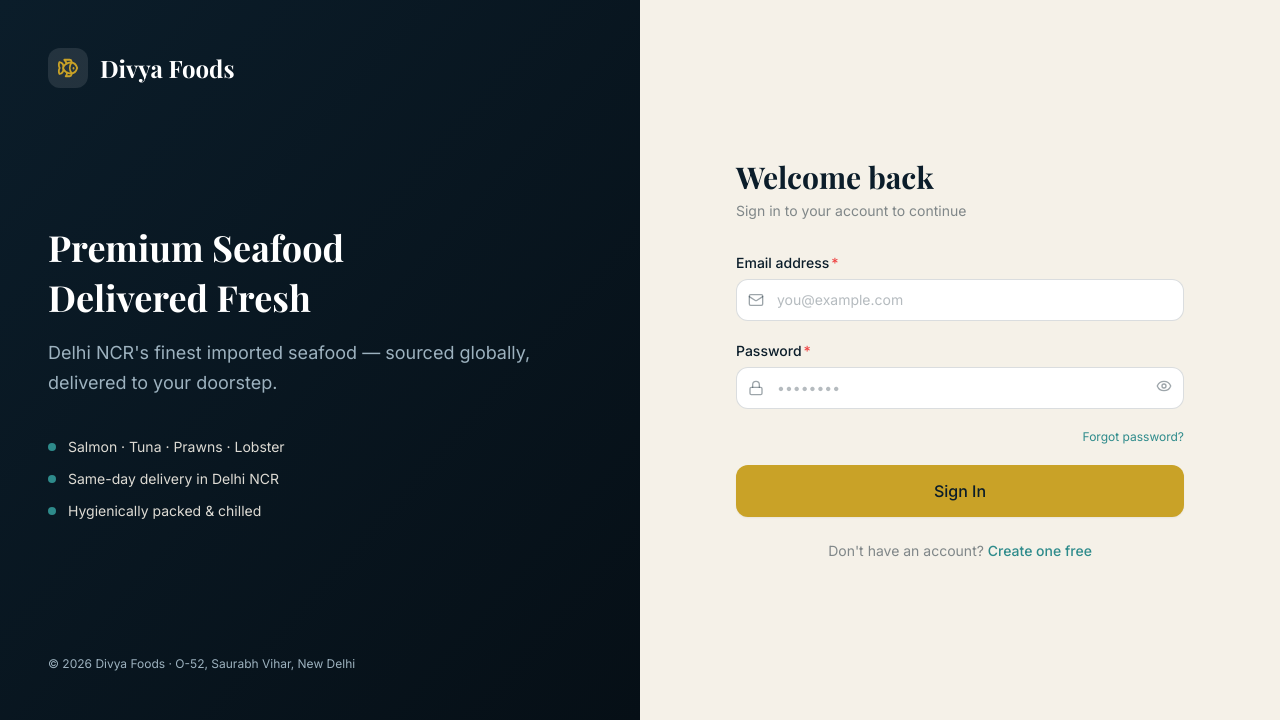
Test: LoginPage › rejects a too-short password
Step 1. Type "a@test.com" into the field labelled "Email address*" → point(960, 300), box x1=736 y1=279 x2=1184 y2=321
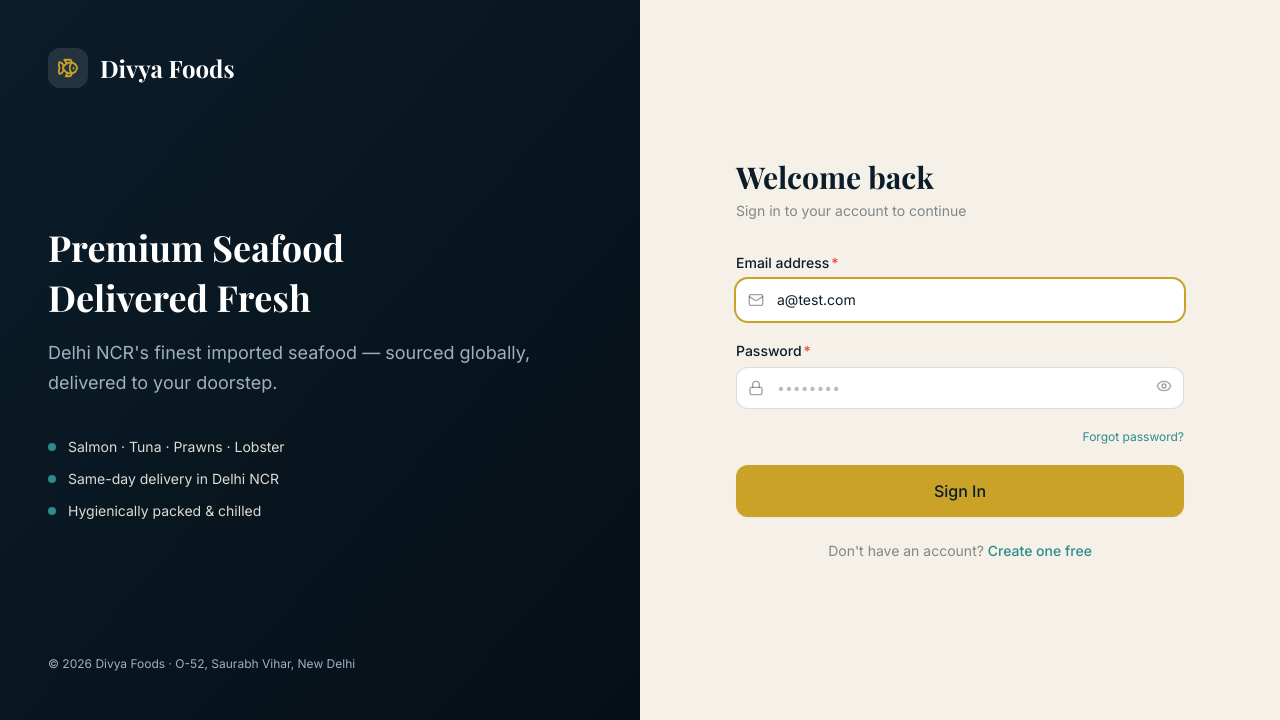
Step 2. Type "123" into the password field labelled "Password*" → point(960, 388), box x1=736 y1=367 x2=1184 y2=409
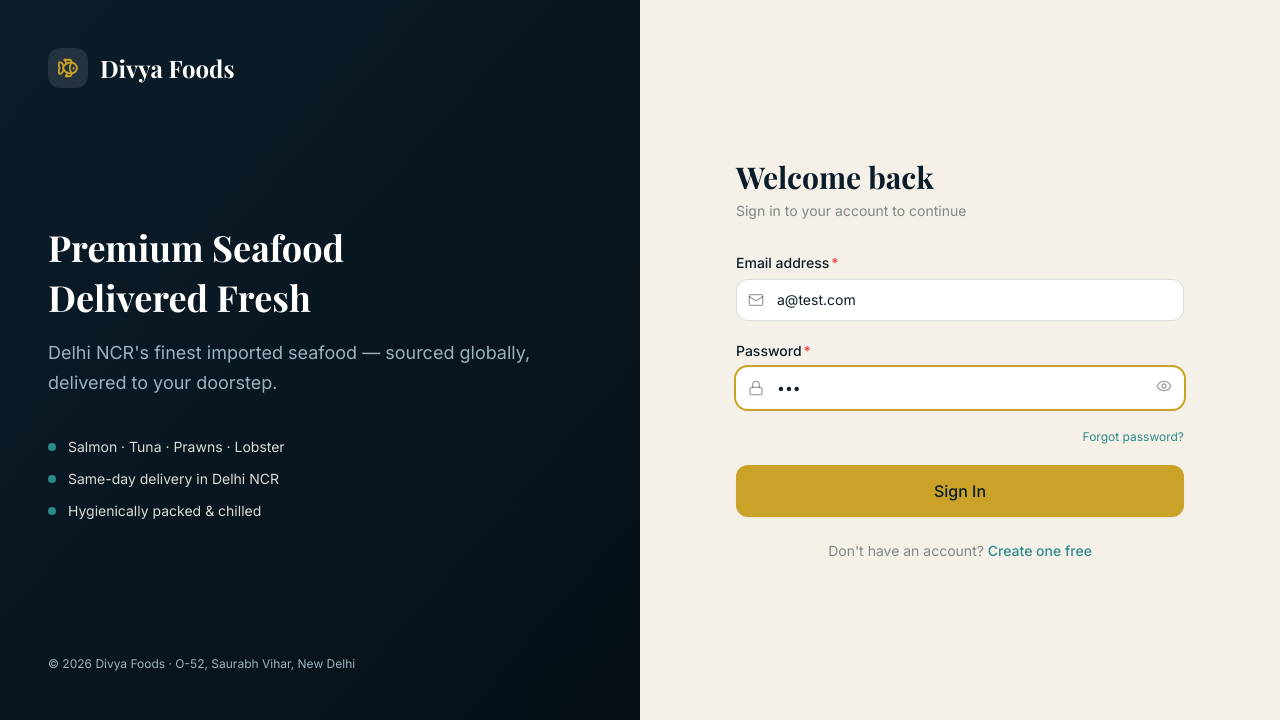
Step 3. Click the button "Sign In" → point(960, 491), box x1=736 y1=465 x2=1184 y2=517
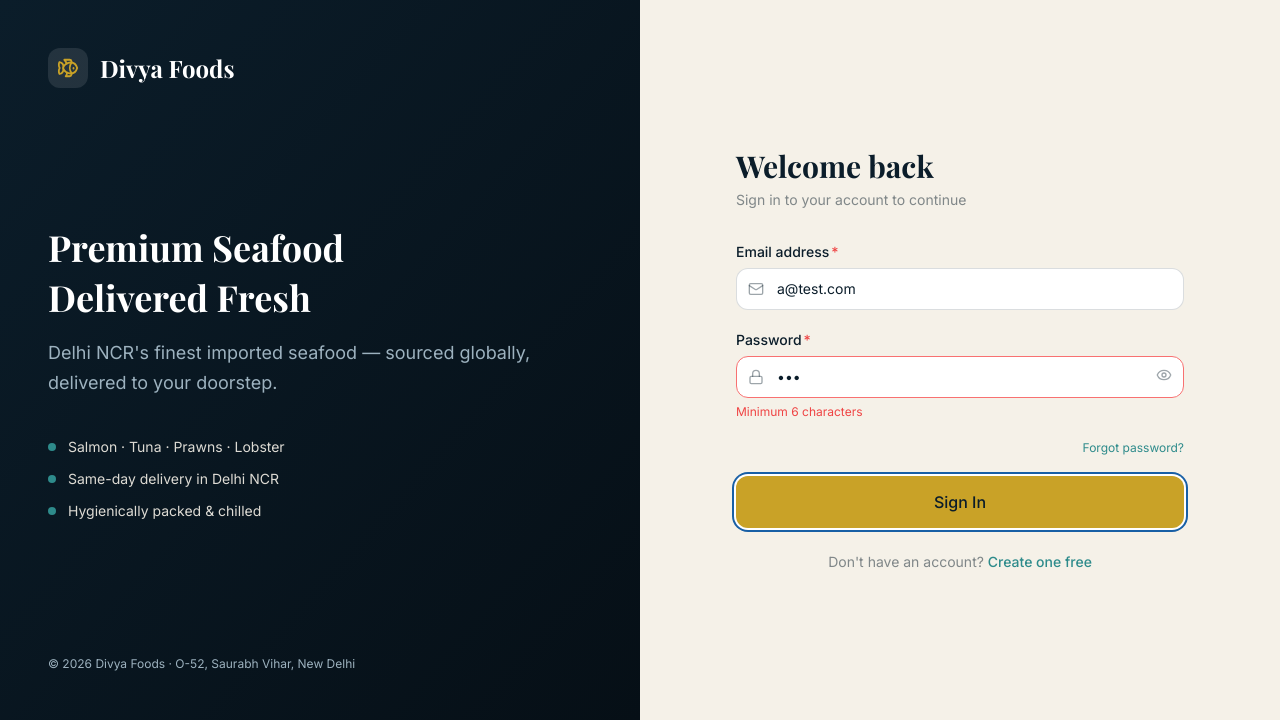
Check: the text "Minimum 6 characters" is shown, box x1=736 y1=404 x2=862 y2=419
